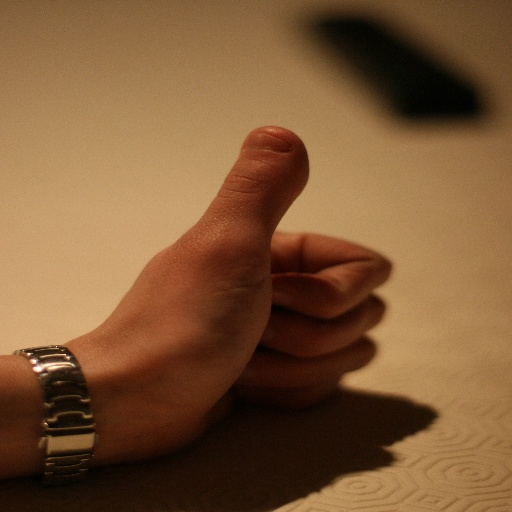hand: (89, 124, 395, 456)
